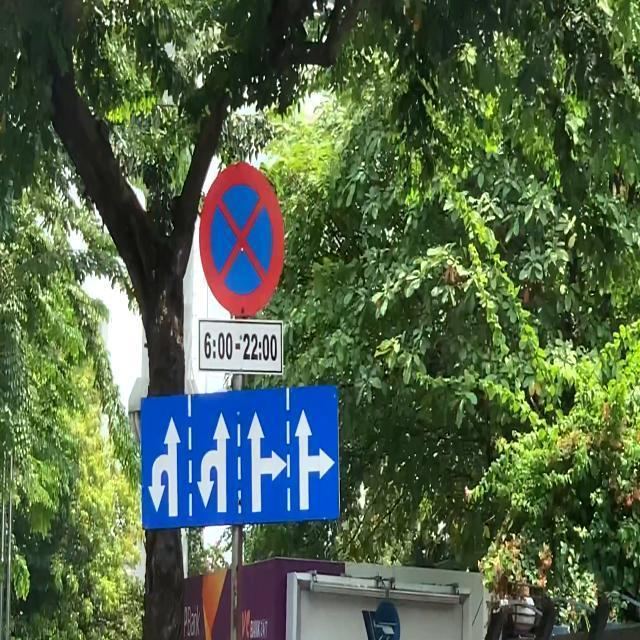130-cam-dung-va-do-xe: (200, 165, 284, 308)
